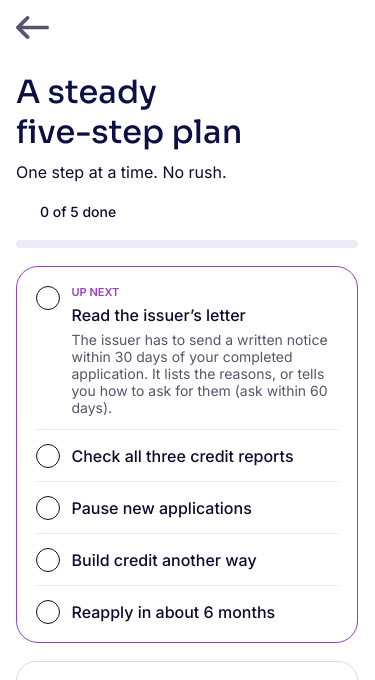
Test: DeniedPlanView › shows the plan read-only, without saving, when there is no application
This screenshot has width=375, height=680.
What coordinates should you click on to do the following:
click the button "Reapply in about 6 months"
I would click on:
 (187, 612)
Its box is top-left (36, 586), bottom-right (338, 638).
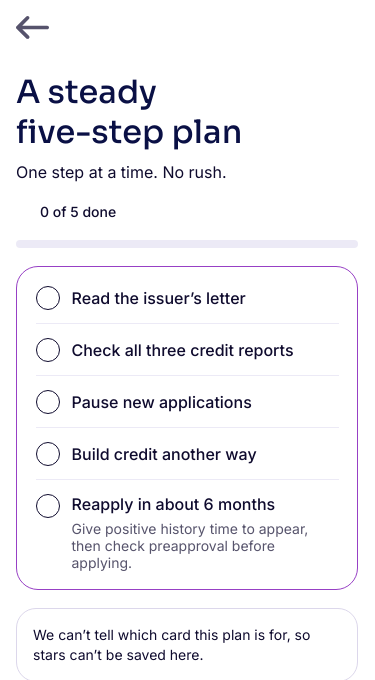
Now the text "Give positive history time to appear" is shown, box top-left (72, 520), bottom-right (308, 570)
